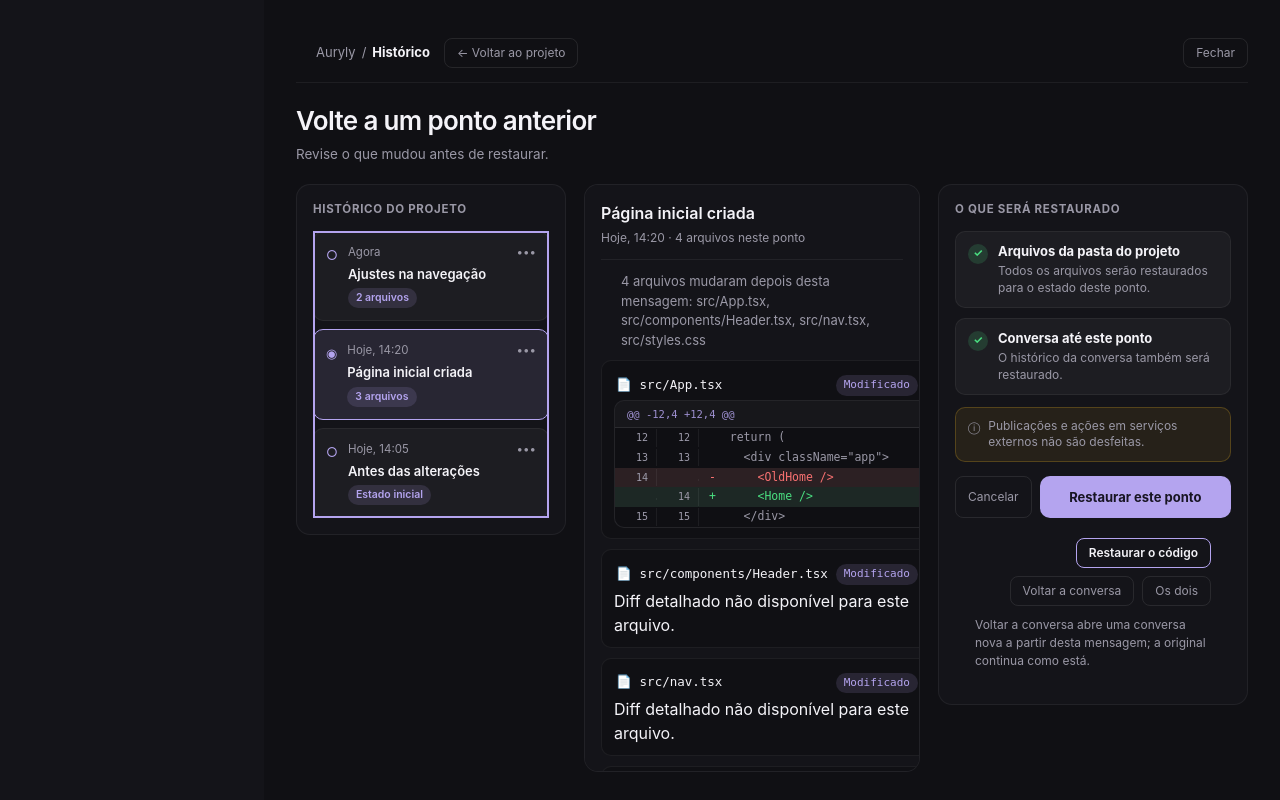
Test: RewindPicker — Time Machine 3-Column Layout (ref-16.png) › renders Column 2 (history-diff-column) with accordion file cards, Modificado badges, and unified diff lines
This screenshot has width=1280, height=800.
Expected: the heading "Página inicial criada" is shown, top-left (601, 203), bottom-right (755, 223)
Expected: the text "Hoje, 14:20 · 4 arquivos neste ponto" is shown, top-left (601, 230), bottom-right (805, 245)
Click the button "📄 src/App.tsx Modificado ⌃". click: (681, 385)
box: top-left (614, 371), bottom-right (936, 400)
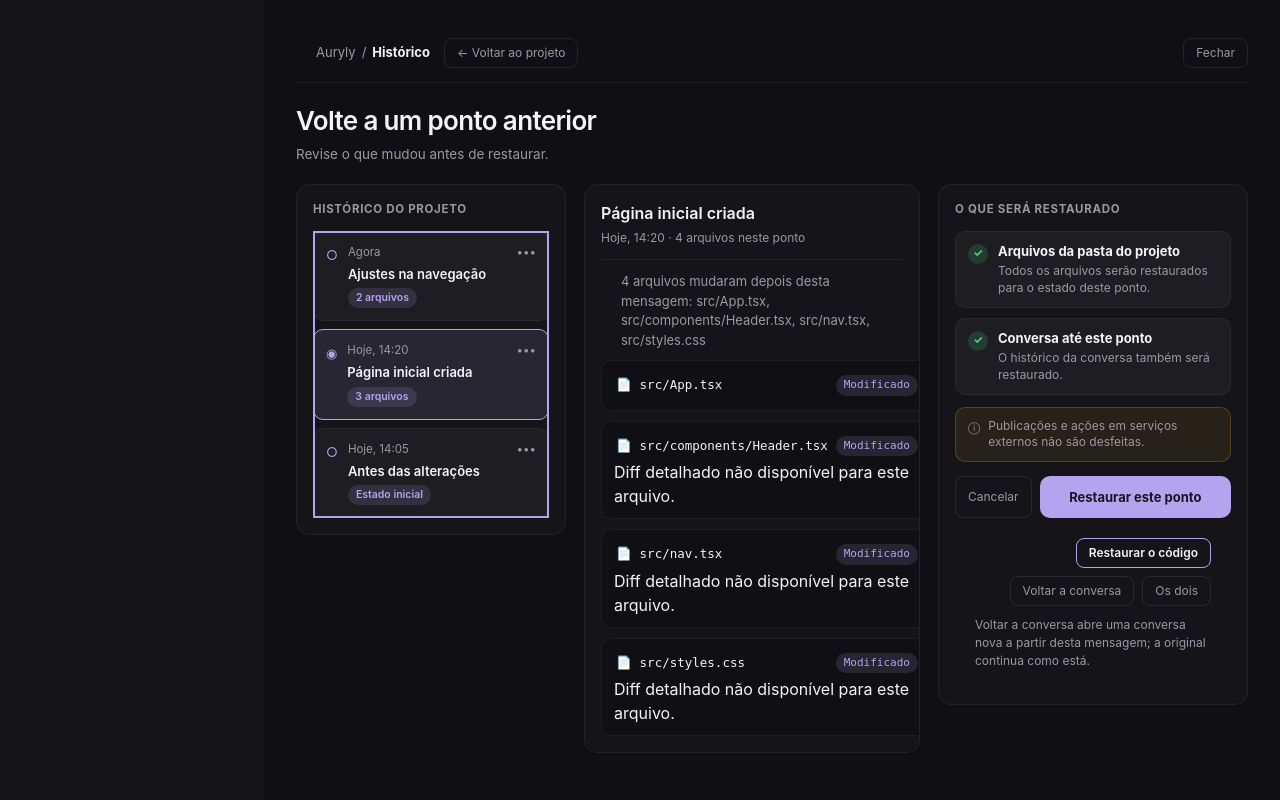
Result: the text "- <OldHome />" is gone
Click the button "📄 src/App.tsx Modificado ⌄". click: (681, 385)
box: top-left (614, 371), bottom-right (936, 400)
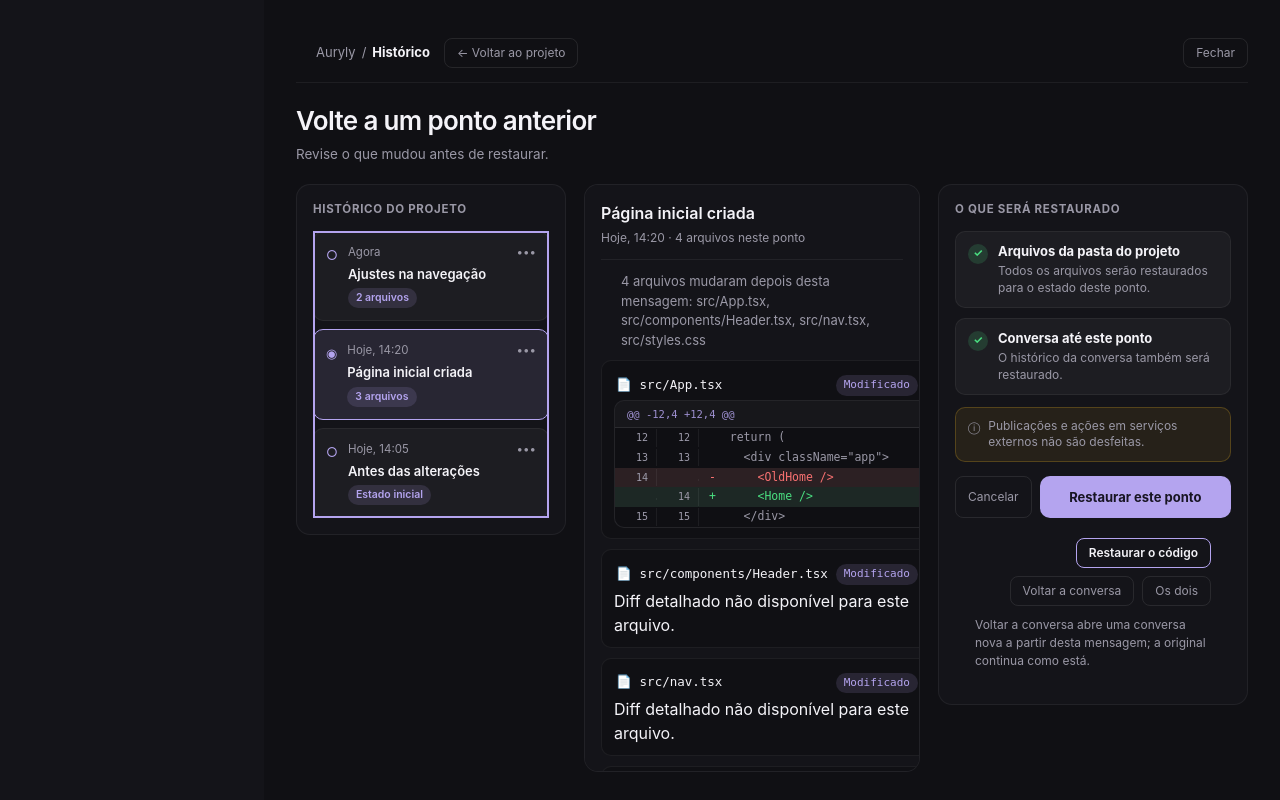
Result: the text "- <OldHome />" is shown at top-left (709, 470), bottom-right (834, 484)
